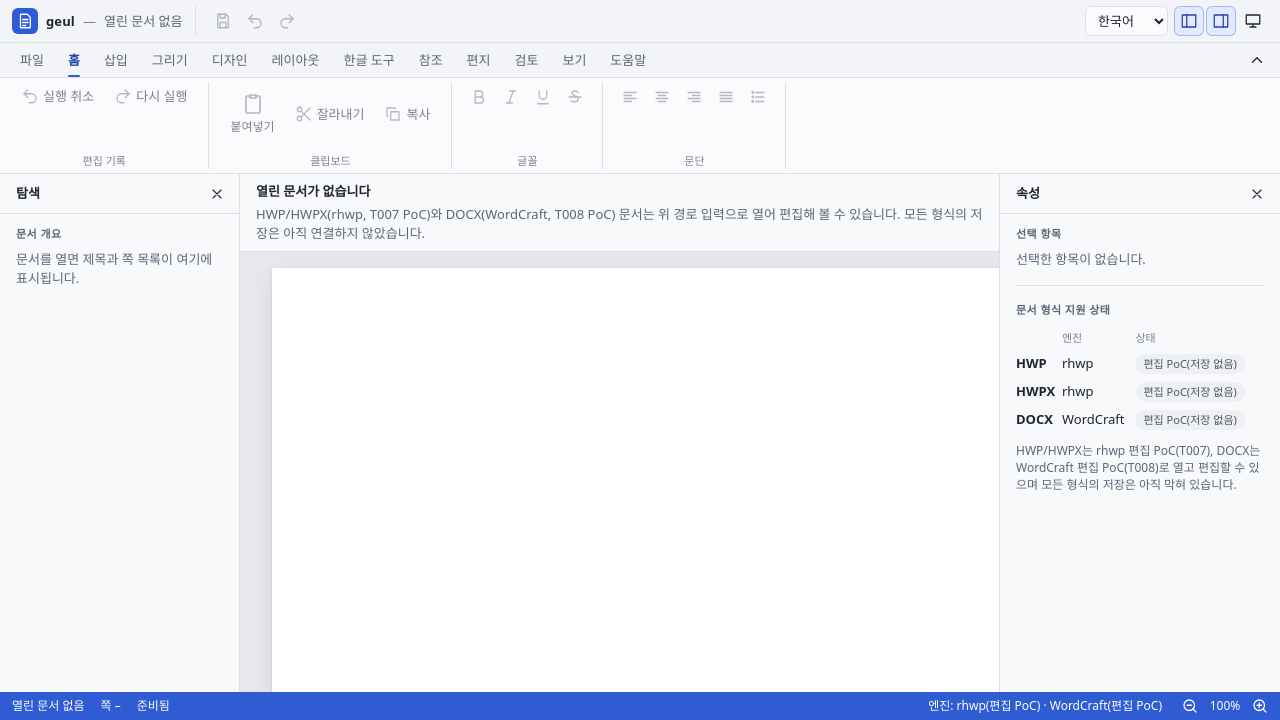
Test: 저장 실패 알림 › 실패하면 알리고, 다시 저장에 성공하면 지난 실패 알림을 지운다
Step 1. Click the button named "테마: 시스템" → click(1253, 21), box [1238, 6, 1268, 36]
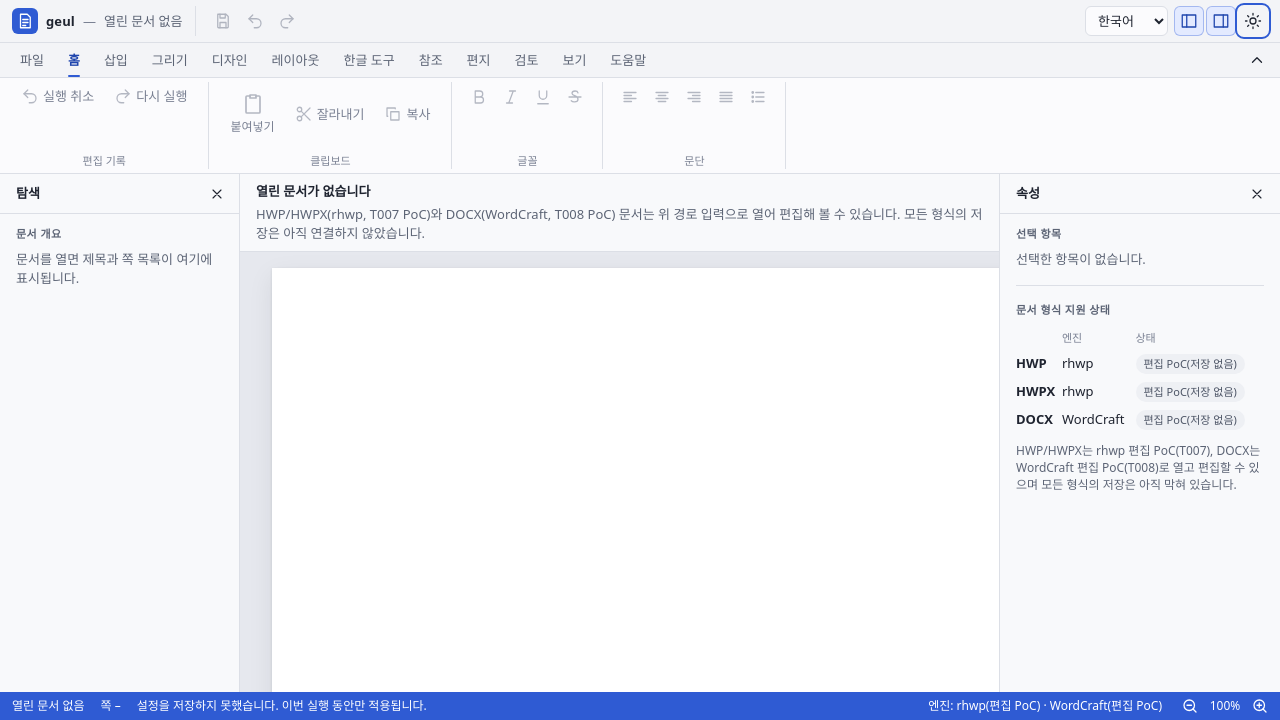
Expected: the message reads "설정을 저장하지 못했습니다. 이번 실행 동안만 적용됩니다.", [137, 697, 427, 714]
Step 2. Click the button named "테마: 밝게" → click(1253, 21), box [1238, 6, 1268, 36]
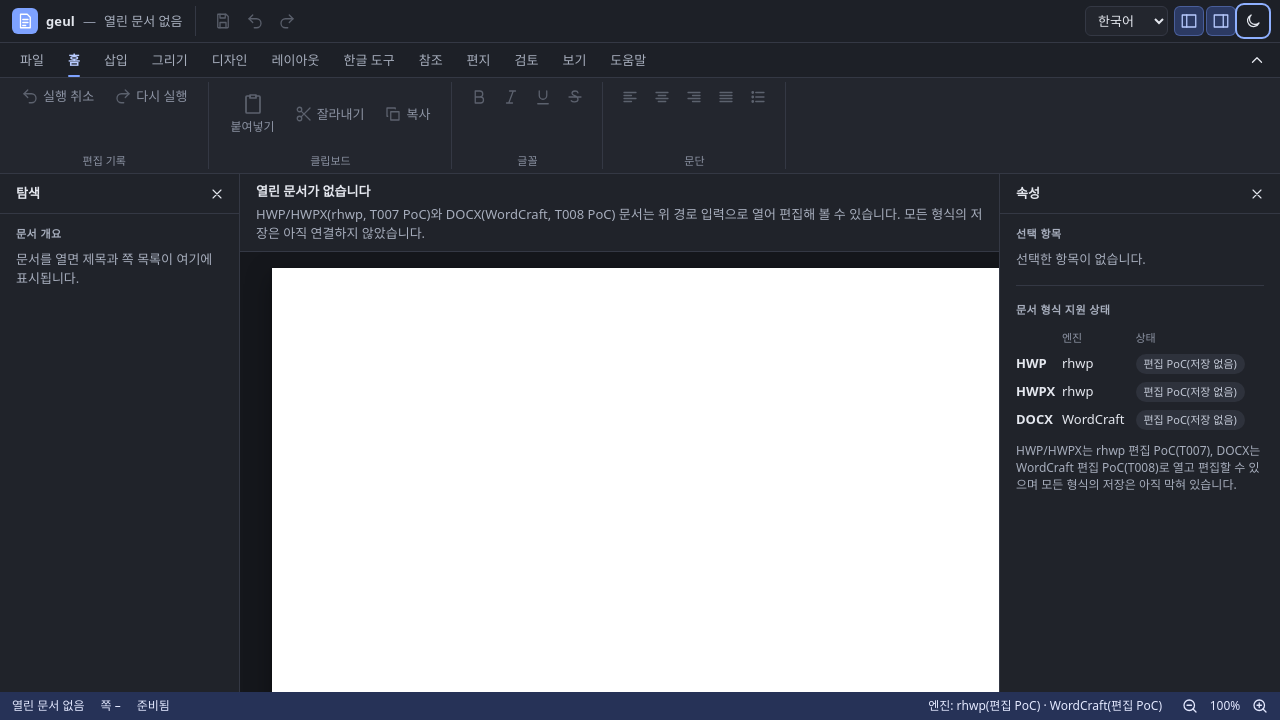
Expected: the message reads "준비됨", [137, 697, 170, 714]
Expected: the message no longer shows "설정을 저장하지 못했습니다", [137, 697, 170, 714]
